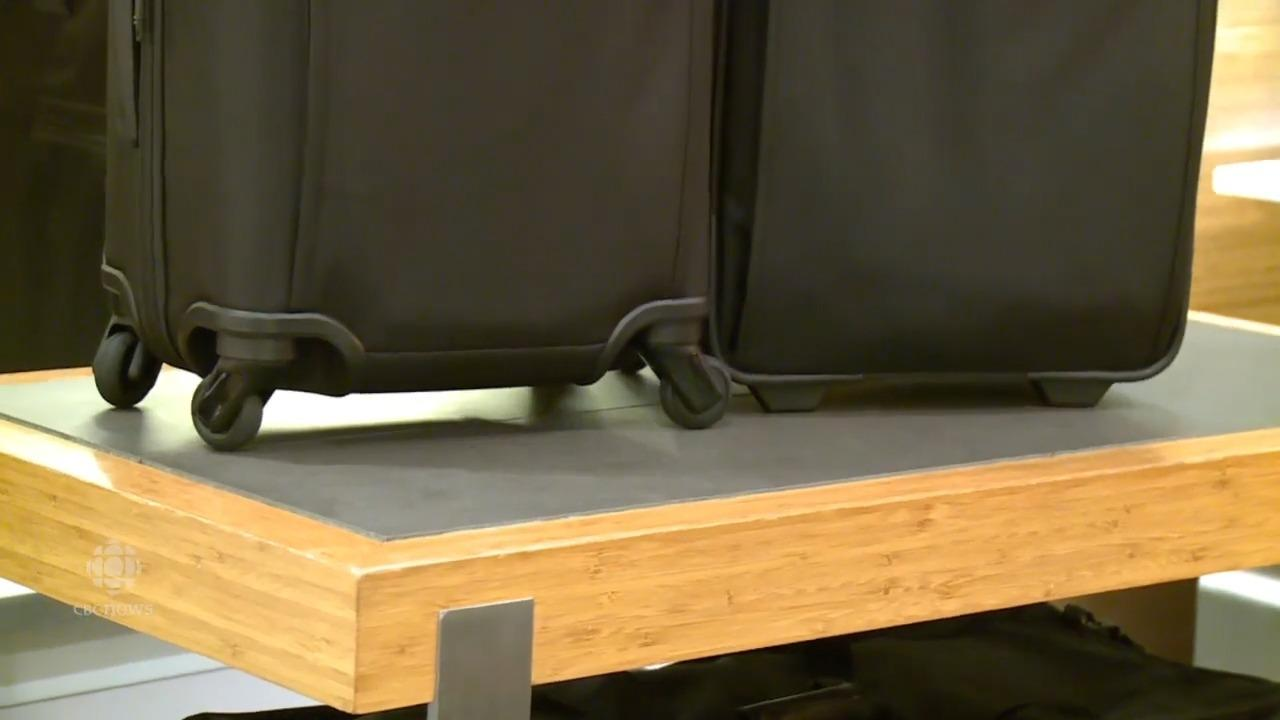luggage: (99, 0, 745, 433), (726, 0, 1237, 392)
